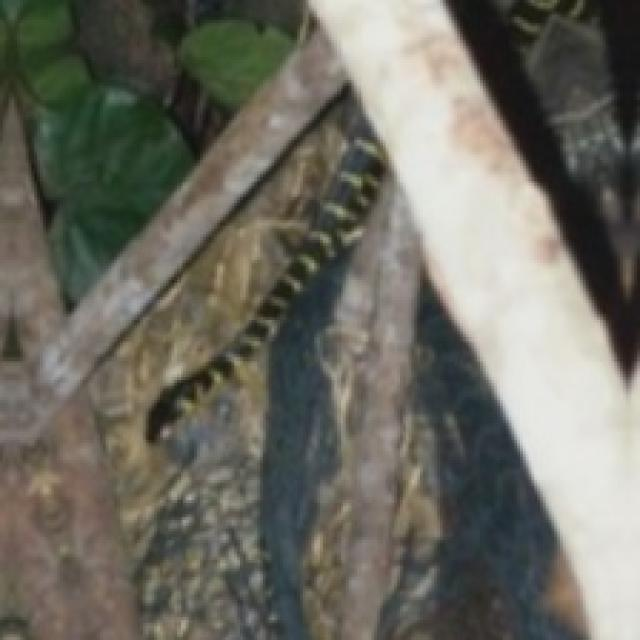mangrove cat snake: (146, 137, 383, 440)
